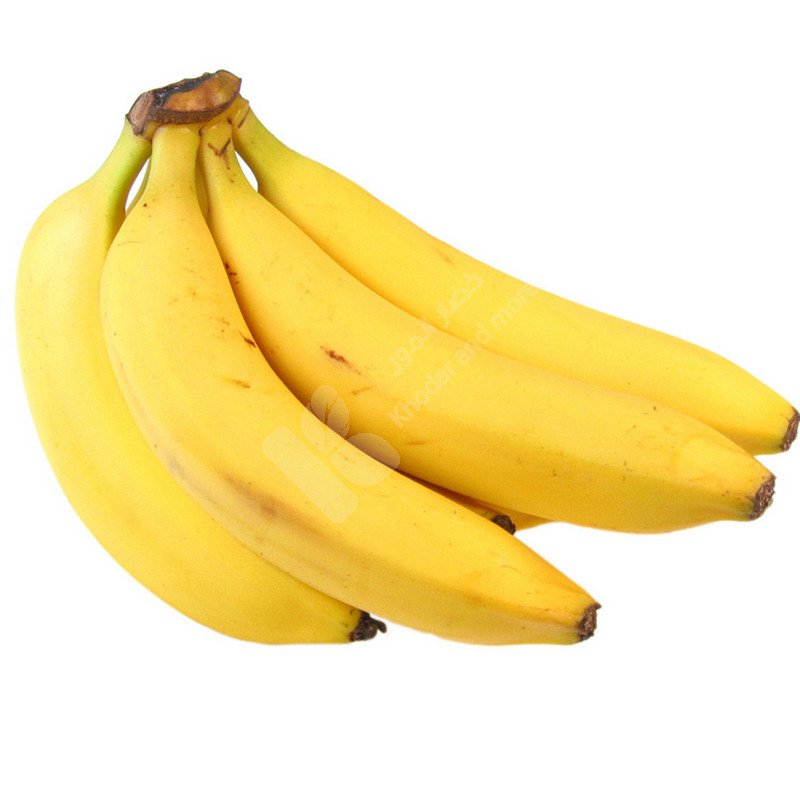looks_good: (25, 29, 800, 712)
